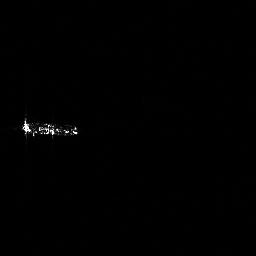ship: (18, 115, 81, 139)
